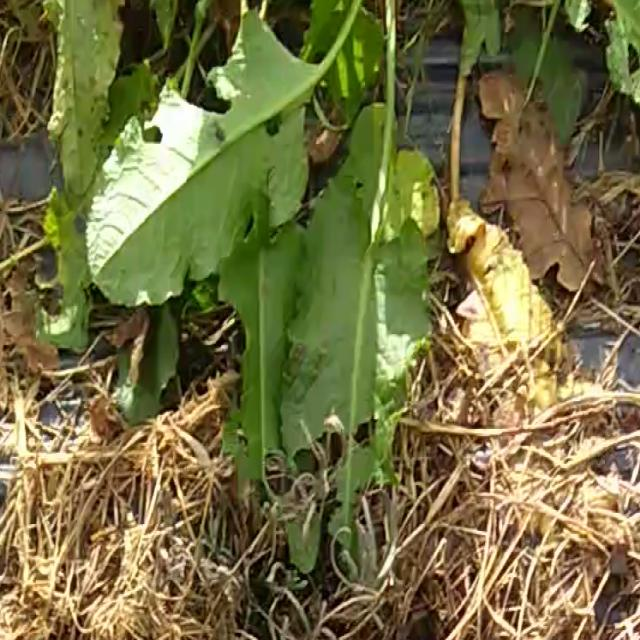organic waste: (59, 0, 479, 511)
